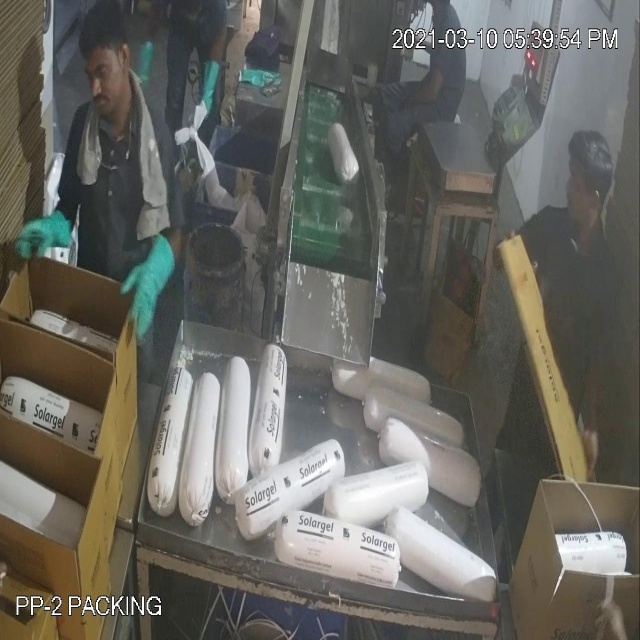Guantes: (115, 231, 186, 356), (16, 197, 73, 277)
Sin_guantes: (580, 315, 611, 492)
